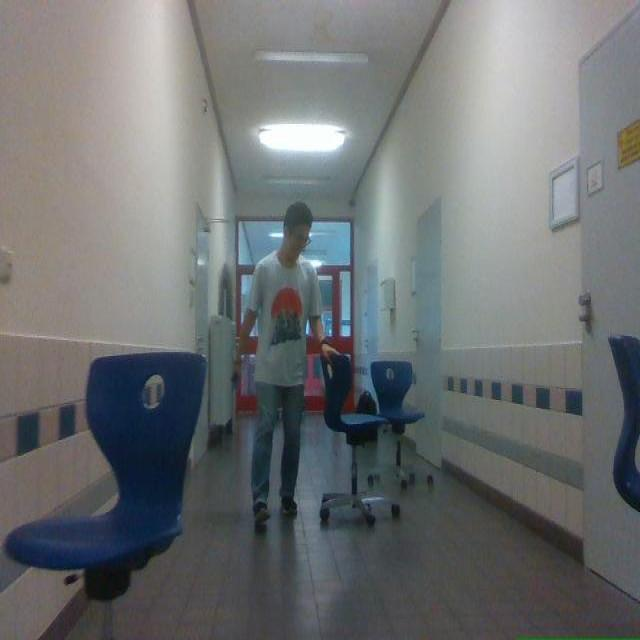humans: (236, 203, 335, 525)
objects: (5, 352, 205, 639), (319, 355, 398, 524), (370, 361, 424, 488)
